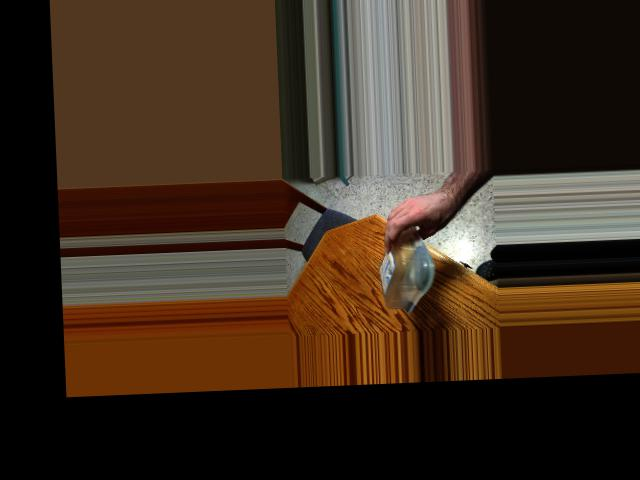cheese: (375, 209, 432, 314)
